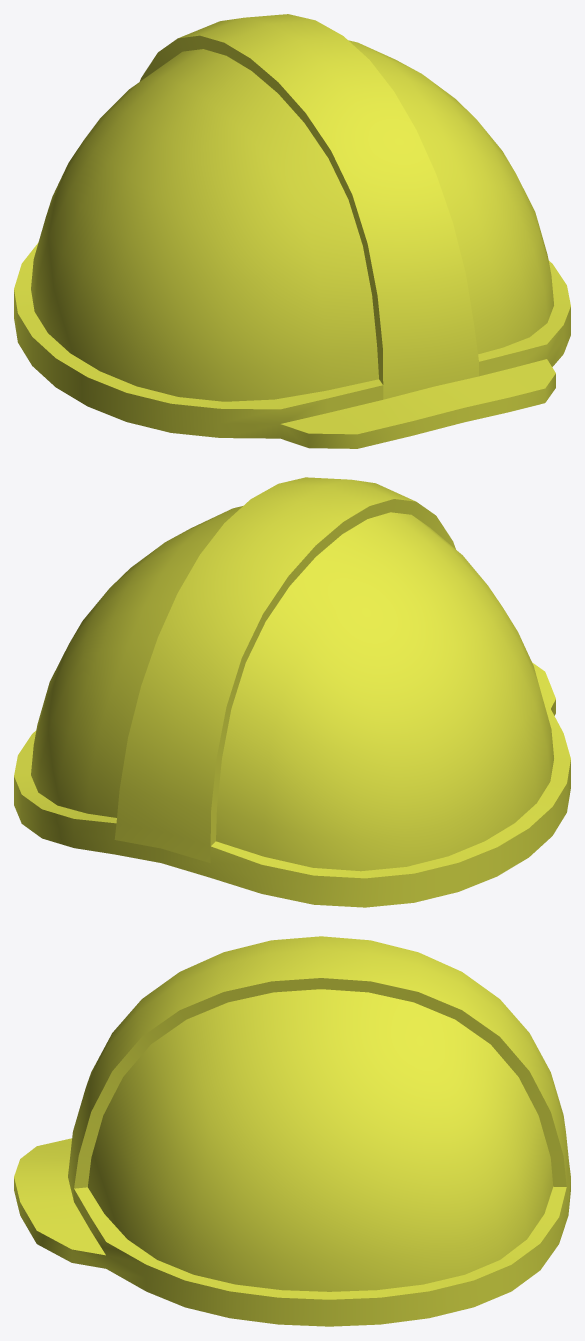
Rendered from MODEL_NPC_Hardhat_Fixed.fbx.
3 views of the same model, one above another, from view 1: azimuth 30°, elevation 25°; view 2: azimuth 150°, elevation 25°; view 3: azimuth 270°, elevation 25° (orthographic). The views are drawn at different scales.
Visible parts, largest first — view 1: Hardhat; view 2: Hardhat; view 3: Hardhat.
Boxes of the visible parts, left/top/right/bottom form: Hardhat: left=14, top=14, right=570, bottom=448; Hardhat: left=14, top=477, right=570, bottom=907; Hardhat: left=14, top=936, right=570, bottom=1326.
Bounding box in the file's own units: 79.57 × 47.19 × 88.09.
